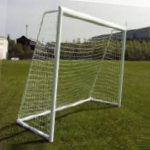goals: (16, 3, 127, 142)
